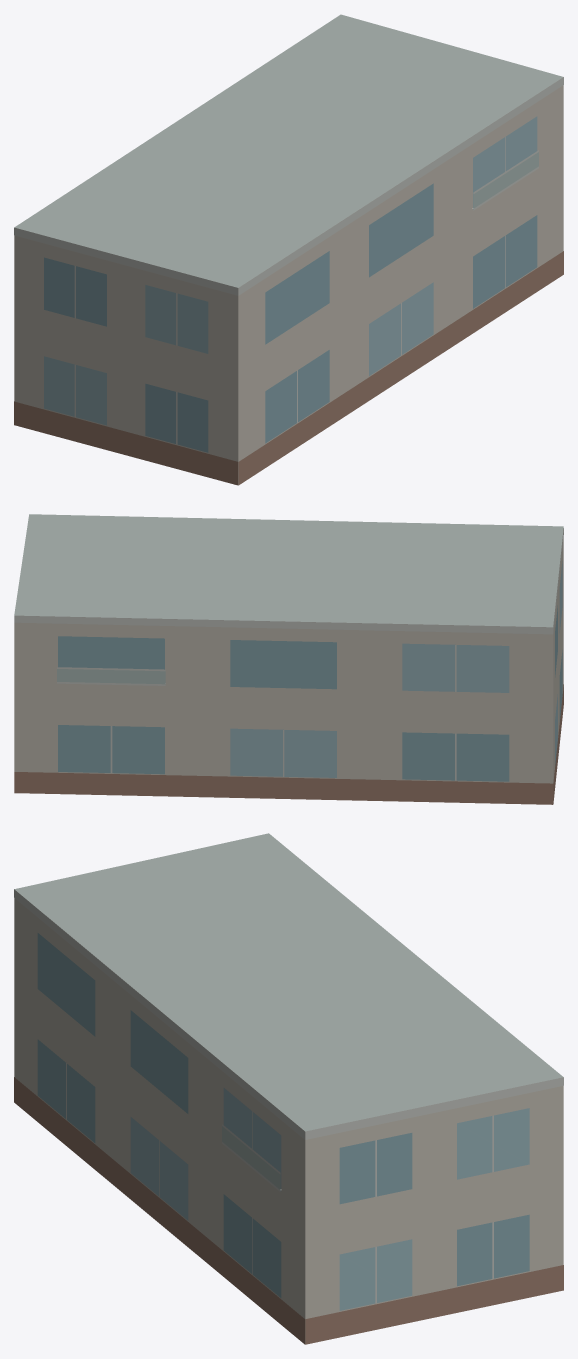
Rendered from survey-upis-32786654.glb.
The picture shows the model from 3 angles, top to bottom: view 1: azimuth 30°, elevation 25°; view 2: azimuth 150°, elevation 25°; view 3: azimuth 270°, elevation 25°; orthographic projection. The views are drawn at different scales.
Visible parts, largest first — view 1: survey-upis-32786654.tmp; view 2: survey-upis-32786654.tmp; view 3: survey-upis-32786654.tmp.
Part boxes in pixels (x1,y1,x2,y2): survey-upis-32786654.tmp: (14,14,563,485); survey-upis-32786654.tmp: (14,514,563,804); survey-upis-32786654.tmp: (14,833,563,1344).
Size of the model in its own units: 18.32 by 6.1 by 14.27.
